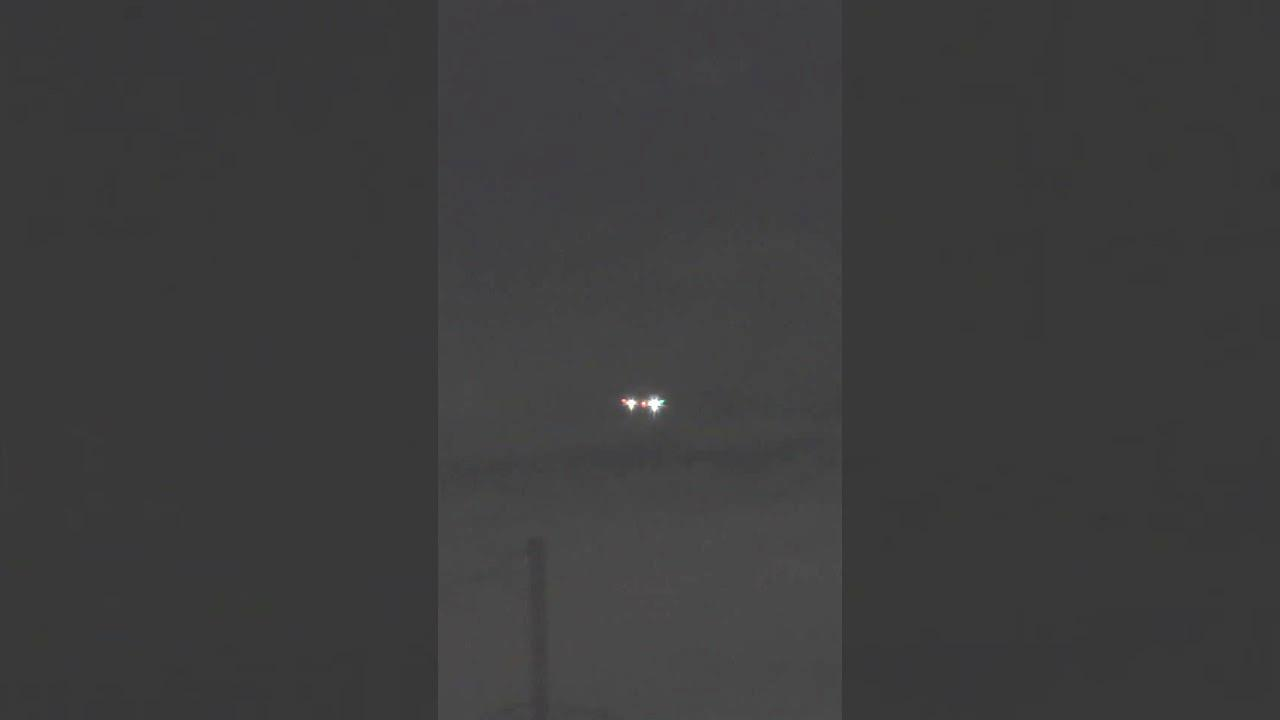Plane: (588, 379, 702, 430)
